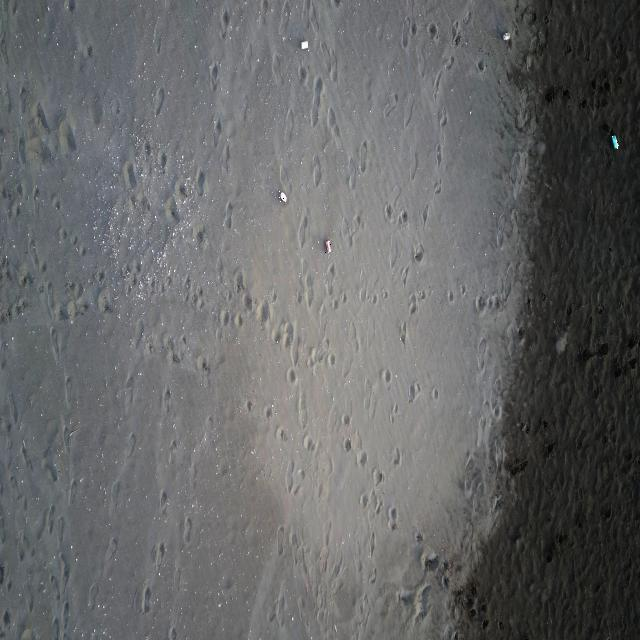tin-and-aluminum-cans: (300, 39, 310, 51), (612, 134, 620, 149), (278, 191, 286, 205), (502, 30, 511, 42), (324, 239, 330, 254)
